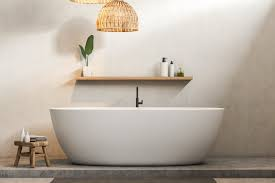bathub: (46, 100, 229, 169)
